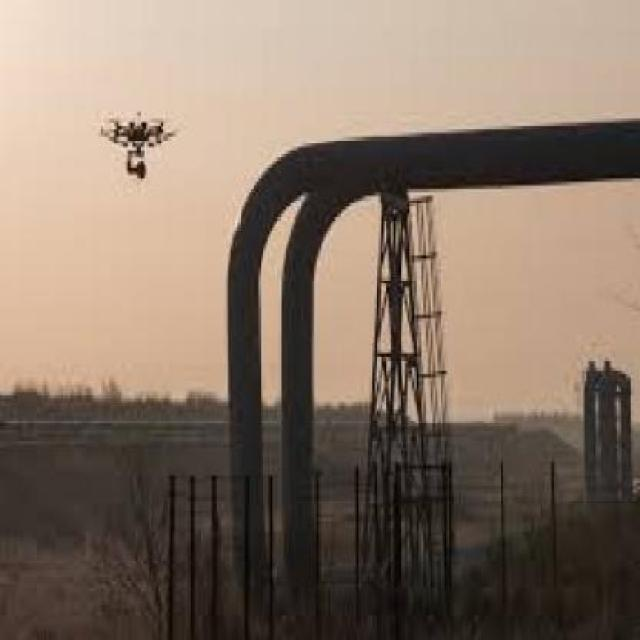gas: (278, 184, 358, 567), (281, 117, 640, 180), (228, 149, 282, 556)
